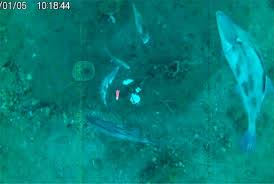smallfish: (102, 43, 135, 76)
